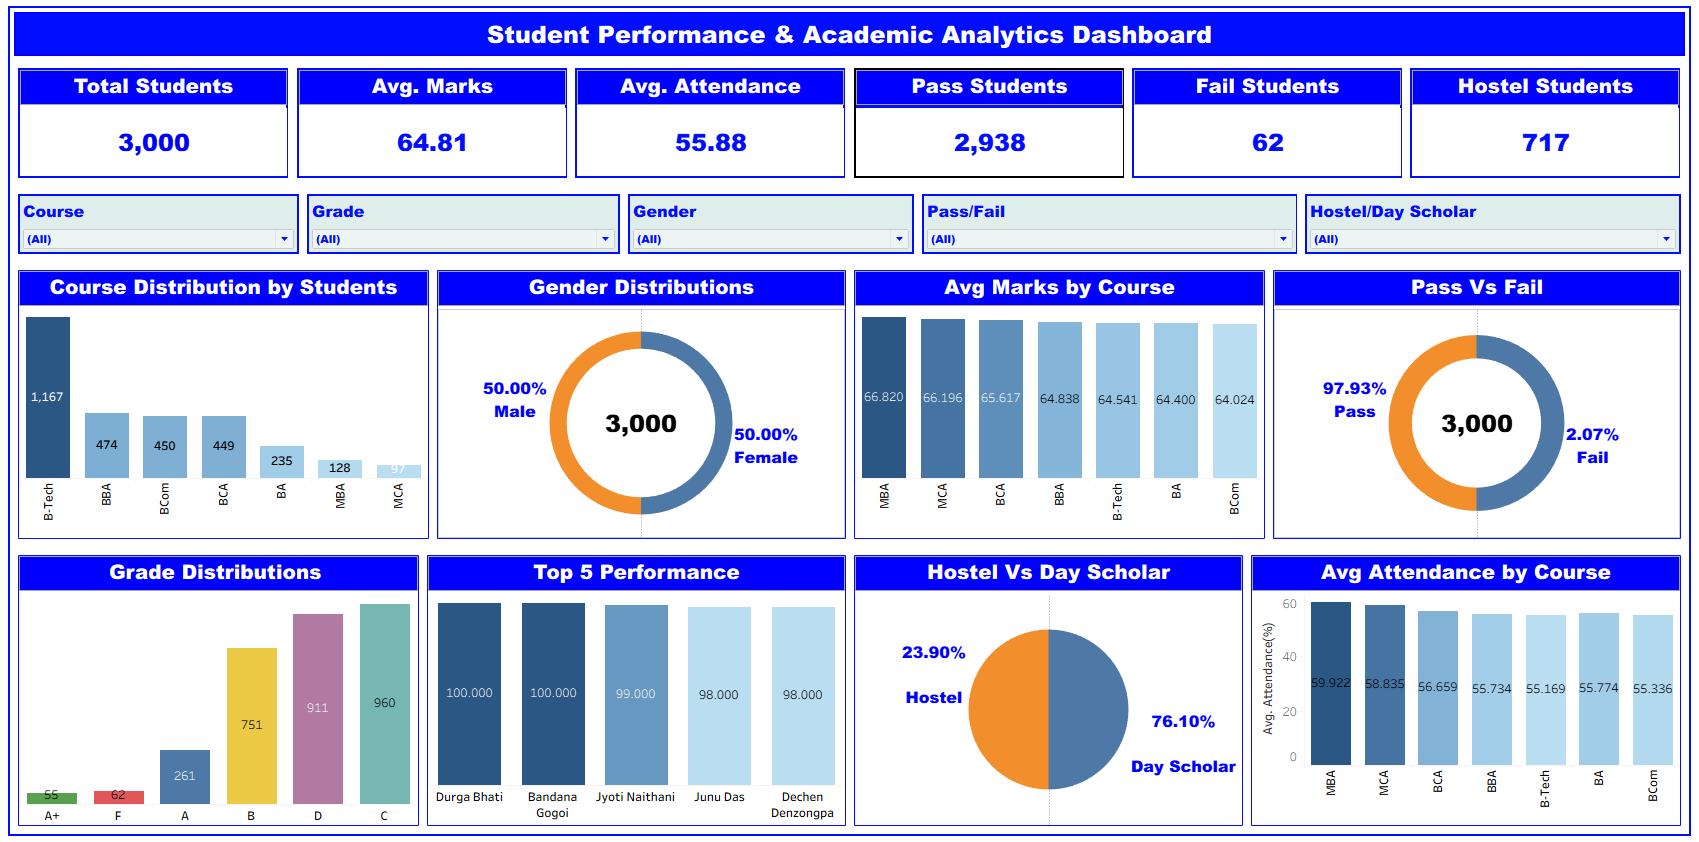

What the dashboard file says about the page in this screenshot:
{"tool":"powerbi","page":{"name":"Student_Performance_Dashboard","canvas":[1920,1080],"ordinal":0},"visuals":[{"type":"shape","box":[620,715,613.3,356.7],"z":0},{"type":"cardVisual","fields":{"Data":["Student_Analysis.Total_Student_Display"]},"box":[3.3,90,300,125],"z":1000},{"type":"shape","box":[0,5,1890,76.7],"z":2000},{"type":"textbox","box":[308.3,13.3,1153.3,61.7],"z":3000},{"type":"shape","box":[5,340,601.7,356.7],"z":4000},{"type":"cardVisual","fields":{"Data":["Avg(Student_Analysis.Marks(%))"]},"box":[320,90,300,125],"z":5000},{"type":"cardVisual","fields":{"Data":["Avg(Student_Analysis.Attendance(%))"]},"box":[633.3,90,300,125],"z":6000},{"type":"cardVisual","fields":{"Data":["Student_Analysis.Pass_Student_Display"]},"box":[945,90,300,125],"z":7000},{"type":"cardVisual","fields":{"Data":["Student_Analysis.Hostel Students"]},"box":[1578.3,90,300,125],"z":8000},{"type":"cardVisual","fields":{"Data":["Student_Analysis.Fail Students"]},"box":[1260,90,300,125],"z":9000},{"type":"slicer","fields":{"Values":["Student_Analysis.Course"]},"box":[78.3,225,305,101.7],"z":10000},{"type":"slicer","fields":{"Values":["Student_Analysis.Pass/Fail"]},"box":[426.7,225,305,101.7],"z":11000},{"type":"slicer","fields":{"Values":["Student_Analysis.Grade"]},"box":[780,225,305,101.7],"z":12000},{"type":"slicer","fields":{"Values":["Student_Analysis.Gender"]},"box":[1123.3,225,305,101.7],"z":13000},{"type":"slicer","fields":{"Values":["Student_Analysis.Hostel/Day Scholar"]},"box":[1465,225,305,101.7],"z":14000},{"type":"shape","box":[630,340,606.7,356.7],"z":15000},{"type":"shape","box":[1260,340,630,356.7],"z":16000},{"type":"clusteredColumnChart","title":"Course Distribution by Student","fields":{"Category":["Student_Analysis.Course"],"Y":["Student_Analysis.Total_Student"]},"box":[6.7,340,602,357],"z":17000},{"type":"donutChart","title":"Pass Vs Fail Student","fields":{"Category":["Student_Analysis.Pass/Fail"],"Y":["Student_Analysis.Total_Student"]},"box":[630,340,603.3,356.7],"z":18000},{"type":"clusteredColumnChart","title":"Average Marks by Courses","fields":{"Category":["Student_Analysis.Course"],"Y":["Avg(Student_Analysis.Marks(%))"]},"box":[1261.7,340,626.7,356.7],"z":19000},{"type":"shape","box":[5,716.7,595,351.7],"z":20000},{"type":"shape","box":[1260,718.3,628.3,355],"z":21000},{"type":"donutChart","title":"Hostel Vs Day Scholar","fields":{"Category":["Student_Analysis.Hostel/Day Scholar"],"Y":["Student_Analysis.Total_Student"]},"box":[6.7,716.7,593.3,351.7],"z":22000},{"type":"clusteredColumnChart","title":"Grade Distributions","fields":{"Category":["Student_Analysis.Grade"],"Y":["Avg(Student_Analysis.Marks(%))"]},"box":[620,716.7,613.3,356.7],"z":23000},{"type":"tableEx","title":"Top Performance ","fields":{"Values":["Student_Analysis.Name","Avg(Student_Analysis.Marks(%))","Avg(Student_Analysis.Attendance(%))","Student_Analysis.Grade"]},"box":[1261.7,718.3,628.3,355],"z":24500}]}

Visuals, with their boxes in screenshot pixels (x1, y1, x2, y2):
shape: 427, 553, 898, 827
cardVisual - Student_Analysis.Total_Student_Display: 0, 74, 184, 169
shape: 0, 8, 1402, 67
textbox: 188, 15, 1073, 62
shape: 0, 265, 417, 539
cardVisual - Avg(Student_Analysis.Marks(%)): 197, 74, 427, 169
cardVisual - Avg(Student_Analysis.Attendance(%)): 437, 74, 668, 169
cardVisual - Student_Analysis.Pass_Student_Display: 677, 74, 907, 169
cardVisual - Student_Analysis.Hostel Students: 1163, 74, 1393, 169
cardVisual - Student_Analysis.Fail Students: 919, 74, 1149, 169
slicer - Student_Analysis.Course: 11, 177, 246, 255
slicer - Student_Analysis.Pass/Fail: 279, 177, 513, 255
slicer - Student_Analysis.Grade: 550, 177, 784, 255
slicer - Student_Analysis.Gender: 814, 177, 1048, 255
slicer - Student_Analysis.Hostel/Day Scholar: 1076, 177, 1310, 255
shape: 435, 265, 901, 539
shape: 919, 265, 1402, 539
"Course Distribution by Student" clusteredColumnChart: 0, 265, 419, 539
"Pass Vs Fail Student" donutChart: 435, 265, 898, 539
"Average Marks by Courses" clusteredColumnChart: 920, 265, 1401, 539
shape: 0, 555, 412, 825
shape: 919, 556, 1401, 828
"Hostel Vs Day Scholar" donutChart: 0, 555, 412, 825
"Grade Distributions" clusteredColumnChart: 427, 555, 898, 828
"Top Performance " tableEx: 920, 556, 1402, 828
